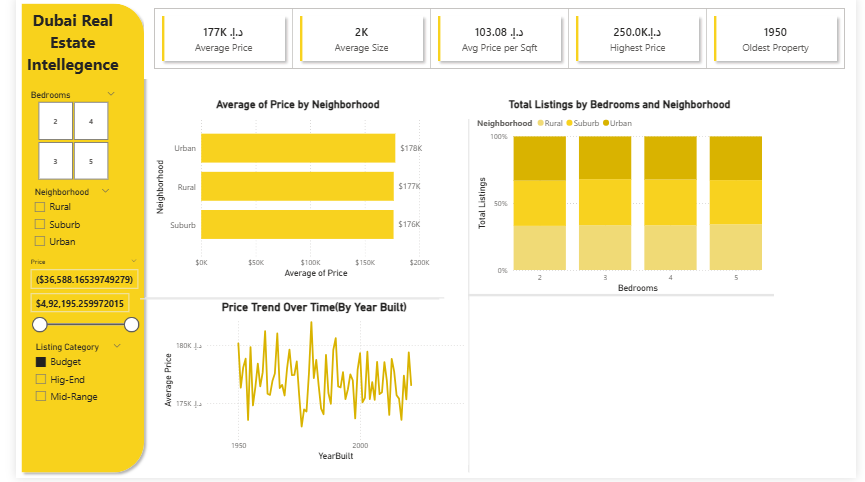

What the dashboard file says about the page in this screenshot:
{"tool":"powerbi","page":{"name":"Page 1","canvas":[1400,800],"ordinal":0},"visuals":[{"type":"shape","box":[0,0,222.5,800],"z":0},{"type":"textbox","box":[347.1,87.1,314.3,97.1],"z":1},{"type":"textbox","box":[11.4,12.9,165.7,154.3],"z":2},{"type":"cardVisual","fields":{"Data":["housing_price_dataset.Average Price","housing_price_dataset.Average Size","housing_price_dataset.Avg Price per Sqft","housing_price_dataset.Highest Price","housing_price_dataset.Oldest Property"]},"box":[213.3,0,1186.7,135],"z":3},{"type":"clusteredBarChart","fields":{"Y":["Avg(housing_price_dataset.Price)"],"Category":["housing_price_dataset.Neighborhood"]},"box":[226.2,166.2,486.2,305],"z":5},{"type":"hundredPercentStackedColumnChart","fields":{"Y":["housing_price_dataset.Total Listings"],"Category":["housing_price_dataset.Bedrooms"],"Series":["housing_price_dataset.Neighborhood"]},"box":[763.8,166.2,485,330],"z":6},{"type":"slicer","title":"Price Trend Over Time(By Year Built)","fields":{"Values":["housing_price_dataset.Neighborhood"]},"box":[18.6,310,150,118.6],"z":7},{"type":"shape","box":[207.1,495.7,498.6,12.9],"z":8},{"type":"shape","box":[214.3,492.9,498.6,12.9],"z":9},{"type":"shape","box":[687.5,201.2,132.5,588.8],"z":10},{"type":"slicer","fields":{"Values":["housing_price_dataset.Bedrooms"]},"box":[11.4,148.6,165.7,161.4],"z":11},{"type":"slicer","fields":{"Values":["housing_price_dataset.Price"]},"box":[11.2,428.8,202.5,131.2],"z":12},{"type":"slicer","fields":{"Values":["housing_price_dataset.Listing Category"]},"box":[20,568.8,167.5,136.2],"z":13},{"type":"lineChart","title":"Price Trend Over Time(By Year Built)","fields":{"Y":["housing_price_dataset.Average Price"],"Category":["housing_price_dataset.YearBuilt"]},"box":[240,502.5,513.8,273.8],"z":14},{"type":"shape","box":[753.8,368.8,510,253.8],"z":15}]}

Visuals, with their boxes in screenshot pixels (x1, y1, x2, y2), scaled from the page's 1400x800 canvas onto the 865x482 screenshot:
shape: l=0, t=0, r=137, b=481
textbox: l=214, t=52, r=409, b=111
textbox: l=7, t=8, r=109, b=101
cardVisual - housing_price_dataset.Average Price x housing_price_dataset.Average Size: l=132, t=0, r=864, b=81
clusteredBarChart - Avg(housing_price_dataset.Price) x housing_price_dataset.Neighborhood: l=140, t=100, r=440, b=284
hundredPercentStackedColumnChart - housing_price_dataset.Total Listings x housing_price_dataset.Bedrooms: l=472, t=100, r=772, b=299
"Price Trend Over Time(By Year Built)" slicer: l=11, t=187, r=104, b=258
shape: l=128, t=299, r=436, b=306
shape: l=132, t=297, r=440, b=305
shape: l=425, t=121, r=507, b=476
slicer - housing_price_dataset.Bedrooms: l=7, t=90, r=109, b=187
slicer - housing_price_dataset.Price: l=7, t=258, r=132, b=337
slicer - housing_price_dataset.Listing Category: l=12, t=343, r=116, b=425
"Price Trend Over Time(By Year Built)" lineChart: l=148, t=303, r=466, b=468
shape: l=466, t=222, r=781, b=375
